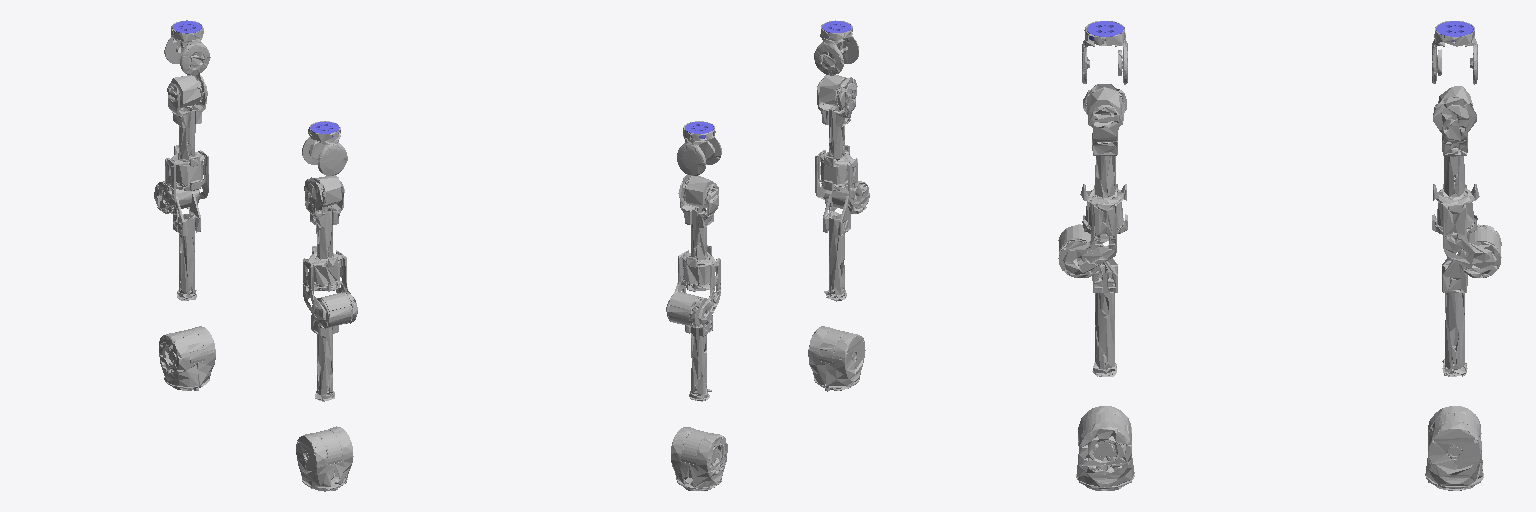
URDF robot description (dual_litearm_upright):
<?xml version="1.0" ?>
<!-- =================================================================================== -->
<!-- |    This document was autogenerated by xacro from dual_litearm_upright.xacro     | -->
<!-- |    EDITING THIS FILE BY HAND IS NOT RECOMMENDED                                 | -->
<!-- =================================================================================== -->
<robot name="dual_litearm_upright">
  <!-- 无立柱：仅一个轻量共同根 Link（无 visual，带微小 inertial 以便
       pybullet/pinocchio 加载）。两臂均为正装（mount rpy=0 0 0，base 轴
       Z 竖直向上，与单臂正装 litearm.urdf 同朝向），沿 ±y 分开摆放。 -->
  <link name="world">
    <inertial>
      <origin rpy="0 0 0" xyz="0 0 0"/>
      <mass value="0.001"/>
      <inertia ixx="1e-9" ixy="0" ixz="0" iyy="1e-9" iyz="0" izz="1e-9"/>
    </inertial>
  </link>
  <!-- Base link -->
  <link name="left_base_link">
    <inertial>
      <origin rpy="0 0 0" xyz="2.8175247251172E-05 -6.21980479290615E-07 0.035522409467453"/>
      <mass value="0.364380717062648"/>
      <inertia ixx="0.000273641151212691" ixy="1.67098713947684E-08" ixz="-1.095659949842E-08" iyy="0.000251821003104227" iyz="-3.36863189944049E-09" izz="0.000377759325620069"/>
    </inertial>
    <visual>
      <origin rpy="0 0 0" xyz="0 0 0"/>
      <geometry>
        <mesh filename="package://dual_litearm_column_description/meshes/arm_base_link.STL"/>
      </geometry>
      <material name="">
        <color rgba="0.752941176470588 0.752941176470588 0.752941176470588 1"/>
      </material>
    </visual>
    <collision>
      <origin rpy="0 0 0" xyz="0 0 0"/>
      <geometry>
        <mesh filename="package://dual_litearm_column_description/meshes/arm_base_link.STL"/>
      </geometry>
    </collision>
  </link>
  <!-- Joint from parent to base_link -->
  <joint name="left_mount_joint" type="fixed">
    <origin rpy="0 0 0" xyz="0 0.25 0"/>
    <parent link="world"/>
    <child link="left_base_link"/>
  </joint>
  <!-- Link1 -->
  <link name="left_Link1">
    <inertial>
      <origin rpy="0 0 0" xyz="-0.00019370279439063 -0.000144114740922077 0.0415560180015236"/>
      <mass value="0.636061100335262"/>
      <inertia ixx="0.000554935902050265" ixy="-4.51487655008648E-08" ixz="-1.0199728042019E-06" iyy="0.000356856391047183" iyz="-1.9576739855125E-06" izz="0.000409413887893391"/>
    </inertial>
    <visual>
      <origin rpy="0 0 0" xyz="0 0 0"/>
      <geometry>
        <mesh filename="package://dual_litearm_column_description/meshes/Link1.STL"/>
      </geometry>
      <material name="">
        <color rgba="0.752941176470588 0.752941176470588 0.752941176470588 1"/>
      </material>
    </visual>
    <collision>
      <origin rpy="0 0 0" xyz="0 0 0"/>
      <geometry>
        <mesh filename="package://dual_litearm_column_description/meshes/Link1.STL"/>
      </geometry>
    </collision>
  </link>
  <joint name="left_Joint1" type="revolute">
    <origin rpy="0 0 0" xyz="0 0 0.06975"/>
    <parent link="left_base_link"/>
    <child link="left_Link1"/>
    <axis xyz="0 0 1"/>
    <limit effort="97" lower="-2.827" upper="2.827" velocity="1"/>
  </joint>
  <!-- Link2 -->
  <link name="left_Link2">
    <inertial>
      <origin rpy="0 0 0" xyz="0.000109593690777762 0.0650406262633859 0.00200721976927298"/>
      <mass value="0.296281105636482"/>
      <inertia ixx="0.000270936717142598" ixy="-2.30306782741309E-08" ixz="-2.70975700808904E-07" iyy="0.000100407058034292" iyz="-6.69931874727689E-08" izz="0.00028685230942363"/>
    </inertial>
    <visual>
      <origin rpy="0 0 0" xyz="0 0 0"/>
      <geometry>
        <mesh filename="package://dual_litearm_column_description/meshes/Link2.STL"/>
      </geometry>
      <material name="">
        <color rgba="0.752941176470588 0.752941176470588 0.752941176470588 1"/>
      </material>
    </visual>
    <collision>
      <origin rpy="0 0 0" xyz="0 0 0"/>
      <geometry>
        <mesh filename="package://dual_litearm_column_description/meshes/Link2.STL"/>
      </geometry>
    </collision>
  </link>
  <joint name="left_Joint2" type="revolute">
    <origin rpy="1.5708 0 -1.5708" xyz="0 0 0.0635"/>
    <parent link="left_Link1"/>
    <child link="left_Link2"/>
    <axis xyz="0 0 1"/>
    <limit effort="97" lower="-1.745" upper="1.745" velocity="1"/>
  </joint>
  <!-- Link3 -->
  <link name="left_Link3">
    <inertial>
      <origin rpy="0 0 0" xyz="0.0151163110470192 1.28732078291013E-05 0.126779005395266"/>
      <mass value="0.376902688786702"/>
      <inertia ixx="0.000376663293951144" ixy="-1.4376802512009E-06" ixz="-2.8608849769158E-05" iyy="0.000430672465627267" iyz="-1.30040412215712E-06" izz="0.000111040747664692"/>
    </inertial>
    <visual>
      <origin rpy="0 0 0" xyz="0 0 0"/>
      <geometry>
        <mesh filename="package://dual_litearm_column_description/meshes/Link3.STL"/>
      </geometry>
      <material name="">
        <color rgba="0.752941176470588 0.752941176470588 0.752941176470588 1"/>
      </material>
    </visual>
    <collision>
      <origin rpy="0 0 0" xyz="0 0 0"/>
      <geometry>
        <mesh filename="package://dual_litearm_column_description/meshes/Link3.STL"/>
      </geometry>
    </collision>
  </link>
  <joint name="left_Joint3" type="revolute">
    <origin rpy="1.5708 0 3.1416" xyz="0 0.1135 0"/>
    <parent link="left_Link2"/>
    <child link="left_Link3"/>
    <axis xyz="0 0 1"/>
    <limit effort="27" lower="-2.827" upper="2.827" velocity="1"/>
  </joint>
  <!-- Link4 -->
  <link name="left_Link4">
    <inertial>
      <origin rpy="0 0 0" xyz="-0.0309491778245941 0.0463711873882648 0.0015781418802144"/>
      <mass value="0.285335817911565"/>
      <inertia ixx="0.000163897556025315" ixy="5.04686660054849E-05" ixz="5.37856557248851E-07" iyy="0.000135611687203248" iyz="-4.94793867316259E-07" izz="0.000225975039727136"/>
    </inertial>
    <visual>
      <origin rpy="0 0 0" xyz="0 0 0"/>
      <geometry>
        <mesh filename="package://dual_litearm_column_description/meshes/Link4.STL"/>
      </geometry>
      <material name="">
        <color rgba="0.752941176470588 0.752941176470588 0.752941176470588 1"/>
      </material>
    </visual>
    <collision>
      <origin rpy="0 0 0" xyz="0 0 0"/>
      <geometry>
        <mesh filename="package://dual_litearm_column_description/meshes/Link4.STL"/>
      </geometry>
    </collision>
  </link>
  <joint name="left_Joint4" type="revolute">
    <origin rpy="1.5708 0 0" xyz="0.038 0 0.186"/>
    <parent link="left_Link3"/>
    <child link="left_Link4"/>
    <axis xyz="0 0 1"/>
    <limit effort="27" lower="-3.089" upper="0.035" velocity="1"/>
  </joint>
  <!-- Link5 -->
  <link name="left_Link5">
    <inertial>
      <origin rpy="0 0 0" xyz="-1.76702794687419E-05 0.000426510005050206 0.0951098350080332"/>
      <mass value="0.352654558225702"/>
      <inertia ixx="0.00017392986087562" ixy="-3.22310063327901E-08" ixz="5.61419665918086E-08" iyy="0.000203095536622157" iyz="3.31113262927855E-07" izz="7.25590513906507E-05"/>
    </inertial>
    <visual>
      <origin rpy="0 0 0" xyz="0 0 0"/>
      <geometry>
        <mesh filename="package://dual_litearm_column_description/meshes/Link5.STL"/>
      </geometry>
      <material name="">
        <color rgba="0.752941176470588 0.752941176470588 0.752941176470588 1"/>
      </material>
    </visual>
    <collision>
      <origin rpy="0 0 0" xyz="0 0 0"/>
      <geometry>
        <mesh filename="package://dual_litearm_column_description/meshes/Link5.STL"/>
      </geometry>
    </collision>
  </link>
  <joint name="left_Joint5" type="revolute">
    <origin rpy="1.5708 0 3.1416" xyz="-0.038 0.08545 0"/>
    <parent link="left_Link4"/>
    <child link="left_Link5"/>
    <axis xyz="0 0 1"/>
    <limit effort="12.5" lower="-2.827" upper="2.827" velocity="1"/>
  </joint>
  <!-- Link6 -->
  <link name="left_Link6">
    <inertial>
      <origin rpy="0 0 0" xyz="-0.000202518687183434 0.0525238727976804 0.00178388122861069"/>
      <mass value="0.298759845757099"/>
      <inertia ixx="0.000327555222283101" ixy="-1.39710589093183E-05" ixz="1.17541296357007E-06" iyy="0.000173286577178843" iyz="1.33181143129222E-05" izz="0.00031378344682003"/>
    </inertial>
    <visual>
      <origin rpy="0 0 0" xyz="0 0 0"/>
      <geometry>
        <mesh filename="package://dual_litearm_column_description/meshes/Link6.STL"/>
      </geometry>
      <material name="">
        <color rgba="0.752941176470588 0.752941176470588 0.752941176470588 1"/>
      </material>
    </visual>
    <collision>
      <origin rpy="0 0 0" xyz="0 0 0"/>
      <geometry>
        <mesh filename="package://dual_litearm_column_description/meshes/Link6.STL"/>
      </geometry>
    </collision>
  </link>
  <joint name="left_Joint6" type="revolute">
    <origin rpy="1.5708 0 0" xyz="0 0 0.13705"/>
    <parent link="left_Link5"/>
    <child link="left_Link6"/>
    <axis xyz="0 0 -1"/>
    <limit effort="12.5" lower="-1.571" upper="1.571" velocity="1"/>
  </joint>
  <!-- Link7 -->
  <link name="left_Link7">
    <inertial>
      <origin rpy="0 0 0" xyz="0.0134504979692868 -9.0714971524702E-05 0.00199419237138226"/>
      <mass value="0.152315157261345"/>
      <inertia ixx="4.49052523652279E-05" ixy="7.06299437042223E-08" ixz="2.88694676251147E-07" iyy="4.43694914268928E-05" iyz="-3.12258040603513E-07" izz="6.77348115130221E-05"/>
    </inertial>
    <visual>
      <origin rpy="0 0 0" xyz="0 0 0"/>
      <geometry>
        <mesh filename="package://dual_litearm_column_description/meshes/Link7.STL"/>
      </geometry>
      <material name="">
        <color rgba="0.752941176470588 0.752941176470588 0.752941176470588 1"/>
      </material>
    </visual>
    <collision>
      <origin rpy="0 0 0" xyz="0 0 0"/>
      <geometry>
        <mesh filename="package://dual_litearm_column_description/meshes/Link7.STL"/>
      </geometry>
    </collision>
  </link>
  <joint name="left_Joint7" type="revolute">
    <origin rpy="1.5708 0 1.5708" xyz="0 0.074 0"/>
    <parent link="left_Link6"/>
    <child link="left_Link7"/>
    <axis xyz="0 0 1"/>
    <limit effort="12.5" lower="-1.571" upper="1.571" velocity="1"/>
  </joint>
  <!-- End effector link -->
  <link name="left_ee_frame_link">
    <inertial>
      <origin rpy="0 0 0" xyz="2.70261255596209E-09 -4.63278928536582E-10 -0.00350345068724889"/>
      <mass value="0.0284157347604788"/>
      <inertia ixx="6.67966983467751E-06" ixy="1.67474376584743E-13" ixz="2.71971370018246E-13" iyy="6.67966982267516E-06" iyz="-3.3869129999222E-13" izz="1.29103138360772E-05"/>
    </inertial>
    <visual>
      <origin rpy="0 0 0" xyz="0 0 0"/>
      <geometry>
        <mesh filename="package://dual_litearm_column_description/meshes/ee_frame_link.STL"/>
      </geometry>
      <material name="">
        <color rgba="0.501960784313725 0.501960784313725 1 1"/>
      </material>
    </visual>
    <collision>
      <origin rpy="0 0 0" xyz="0 0 0"/>
      <geometry>
        <mesh filename="package://dual_litearm_column_description/meshes/ee_frame_link.STL"/>
      </geometry>
    </collision>
  </link>
  <joint name="left_ee_joint" type="fixed">
    <origin rpy="0 1.5708 0" xyz="0.05375 0 0"/>
    <parent link="left_Link7"/>
    <child link="left_ee_frame_link"/>
  </joint>
  <!-- Base link -->
  <link name="right_base_link">
    <inertial>
      <origin rpy="0 0 0" xyz="2.8175247251172E-05 -6.21980479290615E-07 0.035522409467453"/>
      <mass value="0.364380717062648"/>
      <inertia ixx="0.000273641151212691" ixy="1.67098713947684E-08" ixz="-1.095659949842E-08" iyy="0.000251821003104227" iyz="-3.36863189944049E-09" izz="0.000377759325620069"/>
    </inertial>
    <visual>
      <origin rpy="0 0 0" xyz="0 0 0"/>
      <geometry>
        <mesh filename="package://dual_litearm_column_description/meshes/arm_base_link.STL"/>
      </geometry>
      <material name="">
        <color rgba="0.752941176470588 0.752941176470588 0.752941176470588 1"/>
      </material>
    </visual>
    <collision>
      <origin rpy="0 0 0" xyz="0 0 0"/>
      <geometry>
        <mesh filename="package://dual_litearm_column_description/meshes/arm_base_link.STL"/>
      </geometry>
    </collision>
  </link>
  <!-- Joint from parent to base_link -->
  <joint name="right_mount_joint" type="fixed">
    <origin rpy="0 0 3.1416" xyz="0 -0.25 0"/>
    <parent link="world"/>
    <child link="right_base_link"/>
  </joint>
  <!-- Link1 -->
  <link name="right_Link1">
    <inertial>
      <origin rpy="0 0 0" xyz="-0.00019370279439063 -0.000144114740922077 0.0415560180015236"/>
      <mass value="0.636061100335262"/>
      <inertia ixx="0.000554935902050265" ixy="-4.51487655008648E-08" ixz="-1.0199728042019E-06" iyy="0.000356856391047183" iyz="-1.9576739855125E-06" izz="0.000409413887893391"/>
    </inertial>
    <visual>
      <origin rpy="0 0 0" xyz="0 0 0"/>
      <geometry>
        <mesh filename="package://dual_litearm_column_description/meshes/Link1.STL"/>
      </geometry>
      <material name="">
        <color rgba="0.752941176470588 0.752941176470588 0.752941176470588 1"/>
      </material>
    </visual>
    <collision>
      <origin rpy="0 0 0" xyz="0 0 0"/>
      <geometry>
        <mesh filename="package://dual_litearm_column_description/meshes/Link1.STL"/>
      </geometry>
    </collision>
  </link>
  <joint name="right_Joint1" type="revolute">
    <origin rpy="0 0 0" xyz="0 0 0.06975"/>
    <parent link="right_base_link"/>
    <child link="right_Link1"/>
    <axis xyz="0 0 1"/>
    <limit effort="97" lower="-2.827" upper="2.827" velocity="1"/>
  </joint>
  <!-- Link2 -->
  <link name="right_Link2">
    <inertial>
      <origin rpy="0 0 0" xyz="0.000109593690777762 0.0650406262633859 0.00200721976927298"/>
      <mass value="0.296281105636482"/>
      <inertia ixx="0.000270936717142598" ixy="-2.30306782741309E-08" ixz="-2.70975700808904E-07" iyy="0.000100407058034292" iyz="-6.69931874727689E-08" izz="0.00028685230942363"/>
    </inertial>
    <visual>
      <origin rpy="0 0 0" xyz="0 0 0"/>
      <geometry>
        <mesh filename="package://dual_litearm_column_description/meshes/Link2.STL"/>
      </geometry>
      <material name="">
        <color rgba="0.752941176470588 0.752941176470588 0.752941176470588 1"/>
      </material>
    </visual>
    <collision>
      <origin rpy="0 0 0" xyz="0 0 0"/>
      <geometry>
        <mesh filename="package://dual_litearm_column_description/meshes/Link2.STL"/>
      </geometry>
    </collision>
  </link>
  <joint name="right_Joint2" type="revolute">
    <origin rpy="1.5708 0 -1.5708" xyz="0 0 0.0635"/>
    <parent link="right_Link1"/>
    <child link="right_Link2"/>
    <axis xyz="0 0 1"/>
    <limit effort="97" lower="-1.745" upper="1.745" velocity="1"/>
  </joint>
  <!-- Link3 -->
  <link name="right_Link3">
    <inertial>
      <origin rpy="0 0 0" xyz="0.0151163110470192 1.28732078291013E-05 0.126779005395266"/>
      <mass value="0.376902688786702"/>
      <inertia ixx="0.000376663293951144" ixy="-1.4376802512009E-06" ixz="-2.8608849769158E-05" iyy="0.000430672465627267" iyz="-1.30040412215712E-06" izz="0.000111040747664692"/>
    </inertial>
    <visual>
      <origin rpy="0 0 0" xyz="0 0 0"/>
      <geometry>
        <mesh filename="package://dual_litearm_column_description/meshes/Link3.STL"/>
      </geometry>
      <material name="">
        <color rgba="0.752941176470588 0.752941176470588 0.752941176470588 1"/>
      </material>
    </visual>
    <collision>
      <origin rpy="0 0 0" xyz="0 0 0"/>
      <geometry>
        <mesh filename="package://dual_litearm_column_description/meshes/Link3.STL"/>
      </geometry>
    </collision>
  </link>
  <joint name="right_Joint3" type="revolute">
    <origin rpy="1.5708 0 3.1416" xyz="0 0.1135 0"/>
    <parent link="right_Link2"/>
    <child link="right_Link3"/>
    <axis xyz="0 0 1"/>
    <limit effort="27" lower="-2.827" upper="2.827" velocity="1"/>
  </joint>
  <!-- Link4 -->
  <link name="right_Link4">
    <inertial>
      <origin rpy="0 0 0" xyz="-0.0309491778245941 0.0463711873882648 0.0015781418802144"/>
      <mass value="0.285335817911565"/>
      <inertia ixx="0.000163897556025315" ixy="5.04686660054849E-05" ixz="5.37856557248851E-07" iyy="0.000135611687203248" iyz="-4.94793867316259E-07" izz="0.000225975039727136"/>
    </inertial>
    <visual>
      <origin rpy="0 0 0" xyz="0 0 0"/>
      <geometry>
        <mesh filename="package://dual_litearm_column_description/meshes/Link4.STL"/>
      </geometry>
      <material name="">
        <color rgba="0.752941176470588 0.752941176470588 0.752941176470588 1"/>
      </material>
    </visual>
    <collision>
      <origin rpy="0 0 0" xyz="0 0 0"/>
      <geometry>
        <mesh filename="package://dual_litearm_column_description/meshes/Link4.STL"/>
      </geometry>
    </collision>
  </link>
  <joint name="right_Joint4" type="revolute">
    <origin rpy="1.5708 0 0" xyz="0.038 0 0.186"/>
    <parent link="right_Link3"/>
    <child link="right_Link4"/>
    <axis xyz="0 0 1"/>
    <limit effort="27" lower="-3.089" upper="0.035" velocity="1"/>
  </joint>
  <!-- Link5 -->
  <link name="right_Link5">
    <inertial>
      <origin rpy="0 0 0" xyz="-1.76702794687419E-05 0.000426510005050206 0.0951098350080332"/>
      <mass value="0.352654558225702"/>
      <inertia ixx="0.00017392986087562" ixy="-3.22310063327901E-08" ixz="5.61419665918086E-08" iyy="0.000203095536622157" iyz="3.31113262927855E-07" izz="7.25590513906507E-05"/>
    </inertial>
    <visual>
      <origin rpy="0 0 0" xyz="0 0 0"/>
      <geometry>
        <mesh filename="package://dual_litearm_column_description/meshes/Link5.STL"/>
      </geometry>
      <material name="">
        <color rgba="0.752941176470588 0.752941176470588 0.752941176470588 1"/>
      </material>
    </visual>
    <collision>
      <origin rpy="0 0 0" xyz="0 0 0"/>
      <geometry>
        <mesh filename="package://dual_litearm_column_description/meshes/Link5.STL"/>
      </geometry>
    </collision>
  </link>
  <joint name="right_Joint5" type="revolute">
    <origin rpy="1.5708 0 3.1416" xyz="-0.038 0.08545 0"/>
    <parent link="right_Link4"/>
    <child link="right_Link5"/>
    <axis xyz="0 0 1"/>
    <limit effort="12.5" lower="-2.827" upper="2.827" velocity="1"/>
  </joint>
  <!-- Link6 -->
  <link name="right_Link6">
    <inertial>
      <origin rpy="0 0 0" xyz="-0.000202518687183434 0.0525238727976804 0.00178388122861069"/>
      <mass value="0.298759845757099"/>
      <inertia ixx="0.000327555222283101" ixy="-1.39710589093183E-05" ixz="1.17541296357007E-06" iyy="0.000173286577178843" iyz="1.33181143129222E-05" izz="0.00031378344682003"/>
    </inertial>
    <visual>
      <origin rpy="0 0 0" xyz="0 0 0"/>
      <geometry>
        <mesh filename="package://dual_litearm_column_description/meshes/Link6.STL"/>
      </geometry>
      <material name="">
        <color rgba="0.752941176470588 0.752941176470588 0.752941176470588 1"/>
      </material>
    </visual>
    <collision>
      <origin rpy="0 0 0" xyz="0 0 0"/>
      <geometry>
        <mesh filename="package://dual_litearm_column_description/meshes/Link6.STL"/>
      </geometry>
    </collision>
  </link>
  <joint name="right_Joint6" type="revolute">
    <origin rpy="1.5708 0 0" xyz="0 0 0.13705"/>
    <parent link="right_Link5"/>
    <child link="right_Link6"/>
    <axis xyz="0 0 -1"/>
    <limit effort="12.5" lower="-1.571" upper="1.571" velocity="1"/>
  </joint>
  <!-- Link7 -->
  <link name="right_Link7">
    <inertial>
      <origin rpy="0 0 0" xyz="0.0134504979692868 -9.0714971524702E-05 0.00199419237138226"/>
      <mass value="0.152315157261345"/>
      <inertia ixx="4.49052523652279E-05" ixy="7.06299437042223E-08" ixz="2.88694676251147E-07" iyy="4.43694914268928E-05" iyz="-3.12258040603513E-07" izz="6.77348115130221E-05"/>
    </inertial>
    <visual>
      <origin rpy="0 0 0" xyz="0 0 0"/>
      <geometry>
        <mesh filename="package://dual_litearm_column_description/meshes/Link7.STL"/>
      </geometry>
      <material name="">
        <color rgba="0.752941176470588 0.752941176470588 0.752941176470588 1"/>
      </material>
    </visual>
    <collision>
      <origin rpy="0 0 0" xyz="0 0 0"/>
      <geometry>
        <mesh filename="package://dual_litearm_column_description/meshes/Link7.STL"/>
      </geometry>
    </collision>
  </link>
  <joint name="right_Joint7" type="revolute">
    <origin rpy="1.5708 0 1.5708" xyz="0 0.074 0"/>
    <parent link="right_Link6"/>
    <child link="right_Link7"/>
    <axis xyz="0 0 1"/>
    <limit effort="12.5" lower="-1.571" upper="1.571" velocity="1"/>
  </joint>
  <!-- End effector link -->
  <link name="right_ee_frame_link">
    <inertial>
      <origin rpy="0 0 0" xyz="2.70261255596209E-09 -4.63278928536582E-10 -0.00350345068724889"/>
      <mass value="0.0284157347604788"/>
      <inertia ixx="6.67966983467751E-06" ixy="1.67474376584743E-13" ixz="2.71971370018246E-13" iyy="6.67966982267516E-06" iyz="-3.3869129999222E-13" izz="1.29103138360772E-05"/>
    </inertial>
    <visual>
      <origin rpy="0 0 0" xyz="0 0 0"/>
      <geometry>
        <mesh filename="package://dual_litearm_column_description/meshes/ee_frame_link.STL"/>
      </geometry>
      <material name="">
        <color rgba="0.501960784313725 0.501960784313725 1 1"/>
      </material>
    </visual>
    <collision>
      <origin rpy="0 0 0" xyz="0 0 0"/>
      <geometry>
        <mesh filename="package://dual_litearm_column_description/meshes/ee_frame_link.STL"/>
      </geometry>
    </collision>
  </link>
  <joint name="right_ee_joint" type="fixed">
    <origin rpy="0 1.5708 0" xyz="0.05375 0 0"/>
    <parent link="right_Link7"/>
    <child link="right_ee_frame_link"/>
  </joint>
</robot>

--- Render facts (derived) ---
Views: 3 orthographic renders of the robot side by side, from view 1: azimuth 30°, elevation 25°; view 2: azimuth 150°, elevation 25°; view 3: azimuth 270°, elevation 25°.
Model dual_litearm_upright with 19 links and 18 joints (14 revolute, 4 fixed), rooted at world, posed every joint at zero.
Visible links, largest first — view 1: left_Link1, right_Link1, right_Link3, right_Link5, left_Link3, left_Link5, right_Link4, left_Link4, left_Link7, right_Link7; view 2: left_Link1, right_Link1, left_Link3, right_Link3, right_Link5, left_Link5, left_Link4, right_Link4, right_Link7, left_Link7; view 3: left_Link1, right_Link1, left_Link3, right_Link3, right_Link5, left_Link5, right_Link4, left_Link4, left_Link7, right_Link7.
Boxes of the visible links, bbox=[...] form: left_Link1: bbox=[159, 326, 215, 390]; right_Link1: bbox=[296, 426, 353, 491]; right_Link3: bbox=[311, 292, 356, 401]; right_Link5: bbox=[304, 175, 344, 261]; left_Link3: bbox=[155, 181, 200, 300]; left_Link5: bbox=[167, 74, 207, 161]; right_Link4: bbox=[303, 246, 357, 325]; left_Link4: bbox=[154, 145, 208, 208]; left_Link7: bbox=[164, 20, 210, 75]; right_Link7: bbox=[302, 121, 347, 175]; left_Link1: bbox=[671, 427, 727, 490]; right_Link1: bbox=[808, 326, 865, 391]; left_Link3: bbox=[667, 291, 712, 401]; right_Link3: bbox=[823, 181, 868, 301]; right_Link5: bbox=[817, 75, 857, 161]; left_Link5: bbox=[678, 175, 718, 262]; left_Link4: bbox=[666, 245, 720, 325]; right_Link4: bbox=[815, 145, 869, 207]; right_Link7: bbox=[814, 20, 858, 75]; left_Link7: bbox=[677, 121, 721, 175]; left_Link1: bbox=[1425, 406, 1483, 490]; right_Link1: bbox=[1076, 406, 1134, 490]; left_Link3: bbox=[1442, 224, 1501, 376]; right_Link3: bbox=[1058, 224, 1117, 376]; right_Link5: bbox=[1083, 84, 1126, 199]; left_Link5: bbox=[1433, 86, 1476, 200]; right_Link4: bbox=[1063, 184, 1127, 274]; left_Link4: bbox=[1432, 184, 1496, 273]; left_Link7: bbox=[1432, 21, 1477, 84]; right_Link7: bbox=[1082, 21, 1127, 84].
Size in the robot's own frame: 0.0877 by 0.6337 by 0.7207 metres.
12 mesh visuals loaded from 9 distinct referenced files (6 binary STL); not drawn: 6 (reference not matched to a file when rendering).
